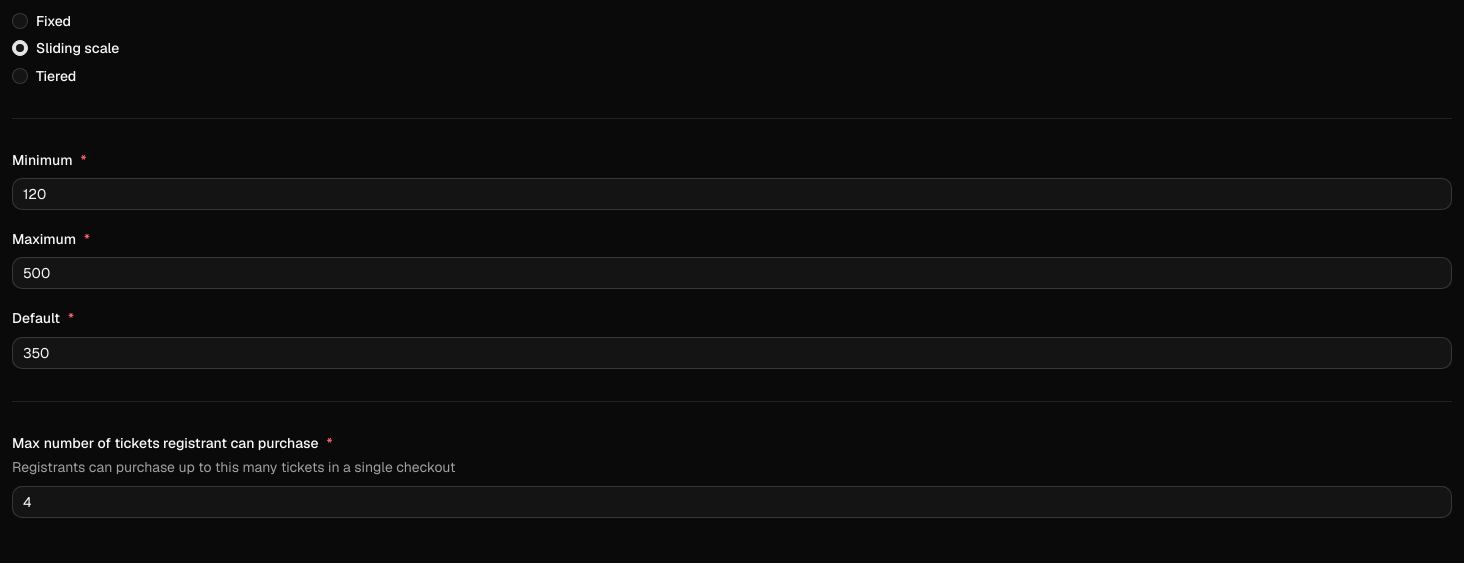
AdmissionsForm › sliding scale › shows the default's range error when raising the minimum above it
This screenshot has width=1464, height=563.
Replace the text in the number field with id "admissions-sliding-min" with "400" at (732,194), box [12,178,1452,210]
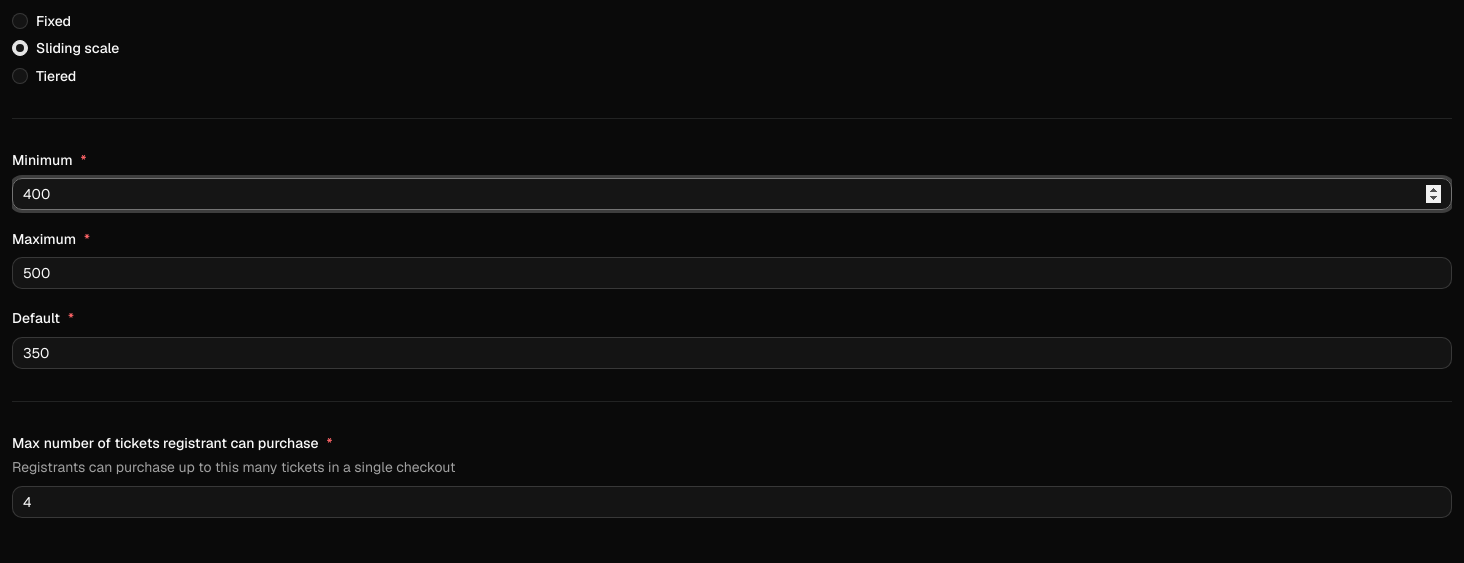
Press Tab
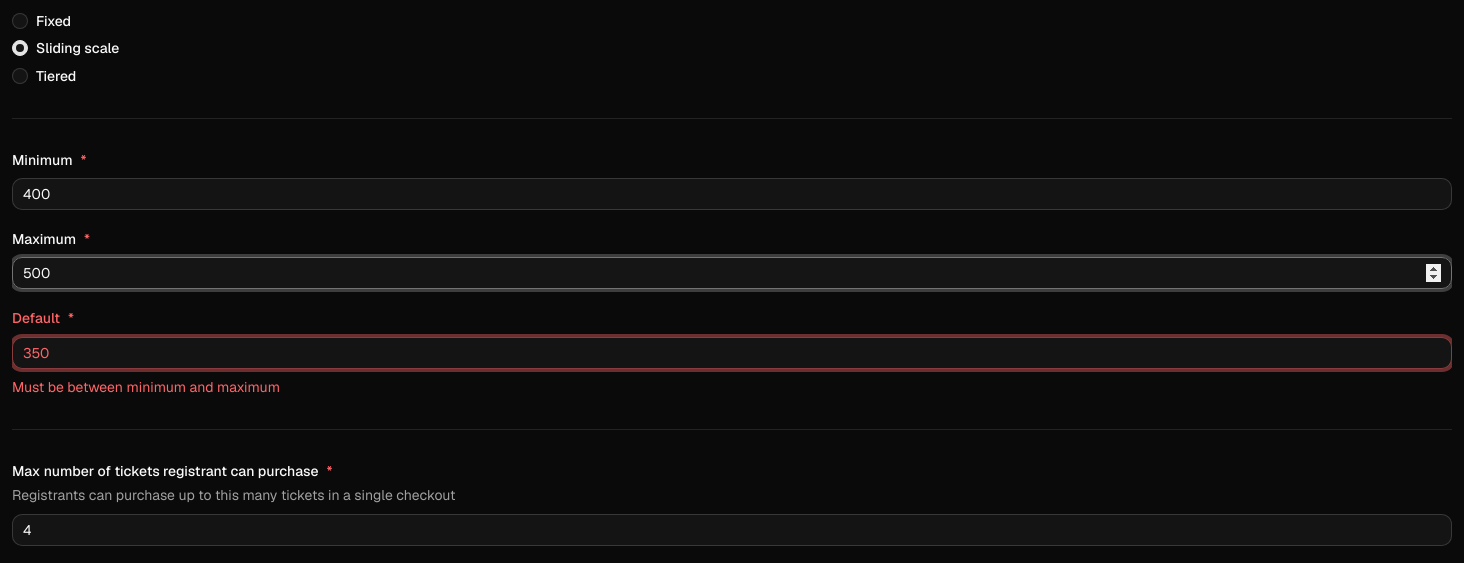
Result: the text "Must be between minimum and maximum" is shown at [12,378,280,396]
